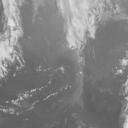cyclone: (35, 39, 93, 87)
